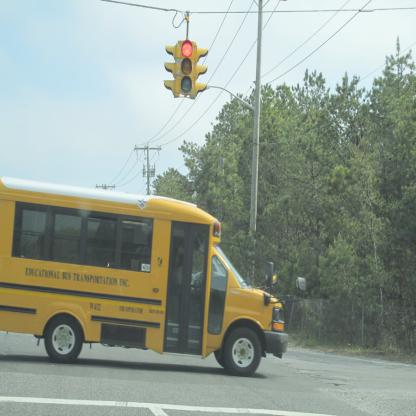Bus: (0, 175, 310, 379)
